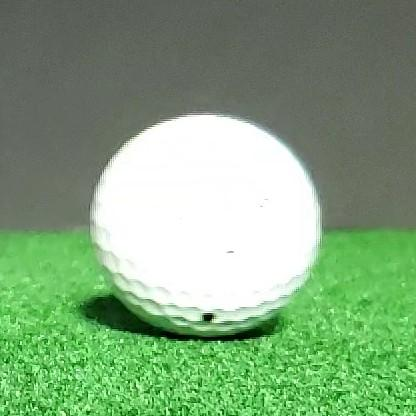golfball: (89, 115, 322, 337)
